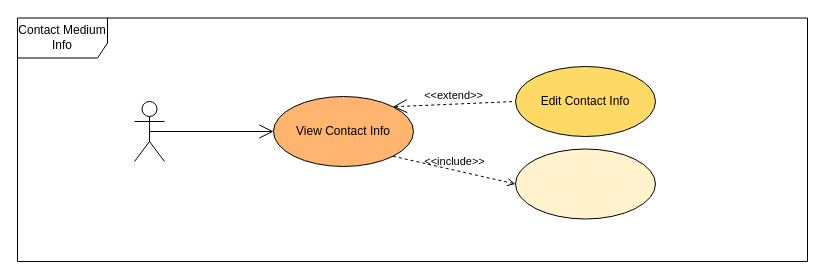
Image size: 825x279. Some labels were removed from this diagram. The centre of each missing label's shape, as x and y in pixels:
Created Customer: the point at 585,183
User: the point at 149,131
